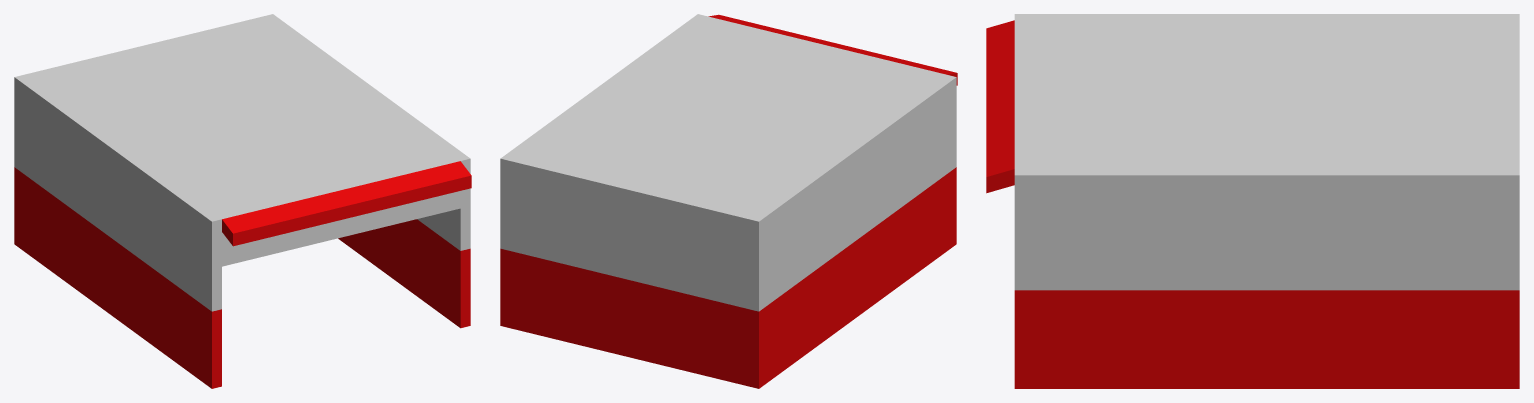
File: loja_22.fbx
3 renders of one model, left to right at view 1: azimuth 30°, elevation 25°; view 2: azimuth 150°, elevation 25°; view 3: azimuth 270°, elevation 25°, orthographic. The views are drawn at different scales.
Parts seen in each view (by area): view 1: Cube; view 2: Cube; view 3: Cube.
Part boxes in pixels (box(x1,y1,x2,y2)): Cube: box(14, 14, 471, 388); Cube: box(500, 14, 957, 388); Cube: box(986, 14, 1519, 388).
Size of the model in its own units: 2061 by 1273 by 2879.
